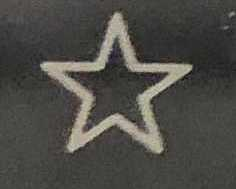favorites: (16, 5, 215, 182)
